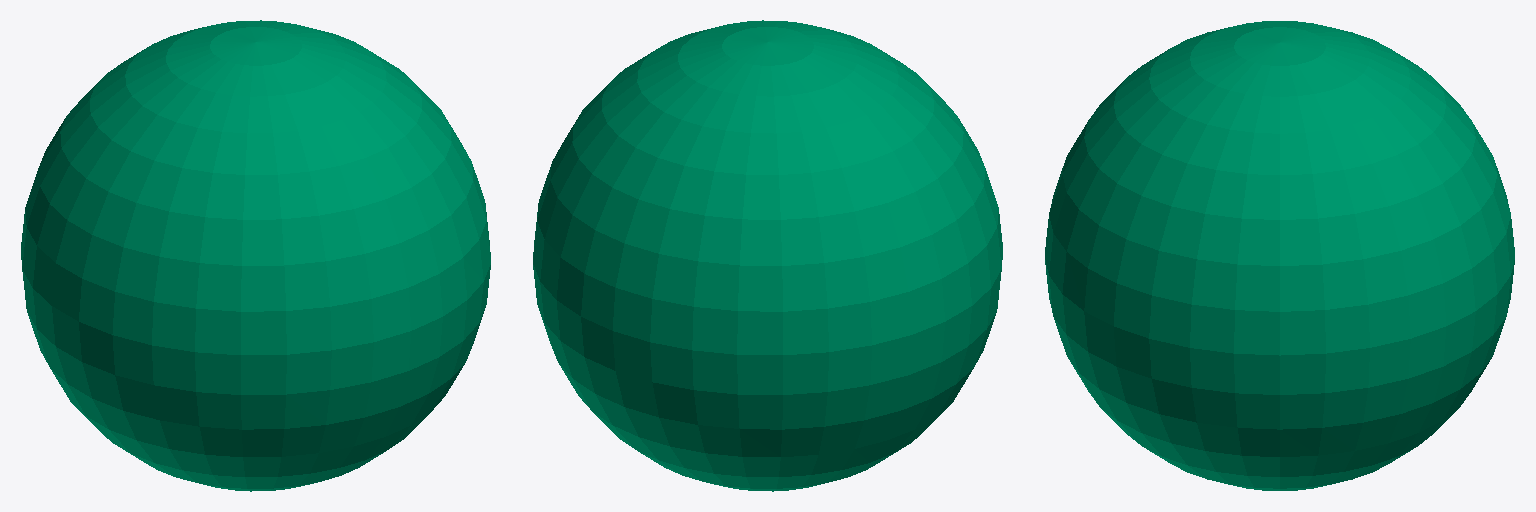
The robot description file, URDF, robot "fetch":
<robot name="fetch">
  <link name="base_link">
    <inertial>
      <origin rpy="0 0 0" xyz="-0.0036 0.0 0.0014" />
      <mass value="70.1294" />
      <inertia ixx="1.225" ixy="0.0099" ixz="0.0062" iyy="1.2853" iyz="-0.0034" izz="0.987" />
    </inertial>
    <visual>
      <origin rpy="0 0 0" xyz="0 0 0" />
      <geometry>
        <mesh filename="package://meshes/base_link.dae" />
      </geometry>
      <material name="">
        <color rgba="0.356 0.361 0.376 1" />
      </material>
    </visual>
    <collision>
      <origin rpy="0 0 0" xyz="0 0 0" />
      <geometry>
        <mesh filename="package://meshes/base_link_collision_2.stl" />
      </geometry>
    </collision>
  </link>
  <link name="torso_lift_link">
    <inertial>
      <origin rpy="0 0 0" xyz="-0.0013 -0.0009 0.2935" />
      <mass value="10.7796" />
      <inertia ixx="0.3354" ixy="0.0" ixz="-0.0162" iyy="0.3354" iyz="-0.0006" izz="0.0954" />
    </inertial>
    <visual>
      <origin rpy="0 0 0" xyz="0 0 0" />
      <geometry>
        <mesh filename="package://meshes/torso_lift_link.dae" />
      </geometry>
      <material name="">
        <color rgba="1 1 1 1" />
      </material>
    </visual>
    <collision>
      <origin rpy="0 0 0" xyz="0 0 0" />
      <geometry>
        <mesh filename="package://meshes/torso_lift_link_split_1.stl" />
      </geometry>
    </collision>
  </link>
  <link name="torso_lift_link_collision_2">
    <visual>
			<geometry>
				<sphere radius="0.0001"></sphere>
			</geometry>
    </visual>
    <collision>
			<geometry>
				<sphere radius="0.082031"></sphere>
			</geometry>
			<origin xyz="0.10028701399493217 -8.808378064632416e-05 0.23797496720600128" rpy="0 0 0"></origin>
    </collision>
  </link>
  <joint name="torso_lift_collision_2_joint" type="fixed">
    <parent link="torso_lift_link" />
    <child link="torso_lift_link_collision_2" />
  </joint>
  <joint name="torso_lift_joint" type="prismatic">
    <origin rpy="-6.123E-17 0 0" xyz="-0.086875 0 0.37743" />
    <parent link="base_link" />
    <child link="torso_lift_link" />
    <axis xyz="0 0 1" />
    <limit effort="450.0" lower="0" upper="0.38615" velocity="0.1" />
  <dynamics damping="100.0" /></joint>
  <link name="head_pan_link">
    <inertial>
      <origin rpy="0 0 0" xyz="0.0321 0.0161 0.0390" />
      <mass value="2.2556" />
      <inertia ixx="0.0129" ixy="0.0002" ixz="0.0007" iyy="0.0095" iyz="-0.0" izz="0.0184" />
    </inertial>
    <visual>
      <origin rpy="0 0 0" xyz="0 0 0" />
      <geometry>
        <mesh filename="package://meshes/head_pan_link.dae" />
      </geometry>
      <material name="">
        <color rgba="0.356 0.361 0.376 1" />
      </material>
    </visual>
    <collision>
      <origin rpy="0 0 0" xyz="0.02 0 0.1" />
      <geometry>
        <sphere radius="0.2" />
      </geometry>
    </collision>
  </link>
  <joint name="head_pan_joint" type="fixed">
    <origin rpy="0 0 0" xyz="0.053125 0 0.603001417713939" />
    <parent link="torso_lift_link" />
    <child link="head_pan_link" />
    <axis xyz="0 0 1" />
  <limit effort="0.32" lower="-1.57" upper="1.57" velocity="1.57" /></joint>
  <link name="head_tilt_link">
    <inertial>
      <origin rpy="0 0 0" xyz="0.0081 0.0025 0.0113" />
      <mass value="0.9087" />
      <inertia ixx="0.0061" ixy="-0.0" ixz="0.0002" iyy="0.0014" iyz="-0.0001" izz="0.0061" />
    </inertial>
    <visual>
      <origin rpy="0 0 0" xyz="0 0 0" />
      <geometry>
        <mesh filename="package://meshes/head_tilt_link.dae" />
      </geometry>
      <material name="">
        <color rgba="0.086 0.506 0.767 1" />
      </material>
    </visual>
  </link>
  <joint name="head_tilt_joint" type="fixed">
    <origin rpy="0 0 0" xyz="0.14253 0 0.057999" />
    <parent link="head_pan_link" />
    <child link="head_tilt_link" />
    <axis xyz="0 1 0" />
    <limit effort="0.68" lower="-0.76" upper="1.45" velocity="1.57" />
  </joint>
  <link name="shoulder_pan_link">
    <inertial>
      <origin rpy="0 0 0" xyz="0.0927 -0.0056 0.0564" />
      <mass value="2.5587" />
      <inertia ixx="0.0043" ixy="-0.0001" ixz="0.001" iyy="0.0087" iyz="-0.0001" izz="0.0087" />
    </inertial>
    <visual>
      <origin rpy="0 0 0" xyz="0 0 0" />
      <geometry>
        <mesh filename="package://meshes/shoulder_pan_link.dae" />
      </geometry>
      <material name="">
        <color rgba="1 1 1 1" />
      </material>
    </visual>
    <collision>
      <origin rpy="0 0 0" xyz="0 0 0" />
      <geometry>
        <mesh filename="package://meshes/shoulder_pan_link_collision_2.stl" />
      </geometry>
    </collision>
  </link>
  <joint name="shoulder_pan_joint" type="revolute">
    <origin rpy="0 0 0" xyz="0.119525 0 0.34858" />
    <parent link="torso_lift_link" />
    <child link="shoulder_pan_link" />
    <axis xyz="0 0 1" />
    <dynamics damping="1.0" />
    <limit effort="33.82" lower="-1.6056" upper="1.6056" velocity="1.256" />
  </joint>
  <link name="shoulder_lift_link">
    <inertial>
      <origin rpy="0 0 0" xyz="0.1432 0.0072 -0.0001" />
      <mass value="2.6615" />
      <inertia ixx="0.0028" ixy="-0.0021" ixz="-0.0" iyy="0.0111" iyz="-0.0" izz="0.0112" />
    </inertial>
    <visual>
      <origin rpy="0 0 0" xyz="0 0 0" />
      <geometry>
        <mesh filename="package://meshes/shoulder_lift_link.dae" />
      </geometry>
      <material name="">
        <color rgba="0.086 0.506 0.767 1" />
      </material>
    </visual>
    <collision>
      <origin rpy="0 0 0" xyz="0 0 0" />
      <geometry>
        <mesh filename="package://meshes/shoulder_lift_link_collision_2.stl" />
      </geometry>
    </collision>
  </link>
  <joint name="shoulder_lift_joint" type="revolute">
    <origin rpy="0 0 0" xyz="0.117 0 0.0599999999999999" />
    <parent link="shoulder_pan_link" />
    <child link="shoulder_lift_link" />
    <axis xyz="0 1 0" />
    <dynamics damping="1.0" />
    <limit effort="131.76" lower="-1.221" upper="1.518" velocity="1.454" />
  </joint>
  <link name="upperarm_roll_link">
    <inertial>
      <origin rpy="0 0 0" xyz="0.1165 0.0014 0.0000" />
      <mass value="2.3311" />
      <inertia ixx="0.0019" ixy="-0.0001" ixz="0.0" iyy="0.0045" iyz="0.0" izz="0.0047" />
    </inertial>
    <visual>
      <origin rpy="0 0 0" xyz="0 0 0" />
      <geometry>
        <mesh filename="package://meshes/upperarm_roll_link.dae" />
      </geometry>
      <material name="">
        <color rgba="1 1 1 1" />
      </material>
    </visual>
    <collision>
      <origin rpy="0 0 0" xyz="0 0 0" />
      <geometry>
        <mesh filename="package://meshes/upperarm_roll_link_collision_2.stl" />
      </geometry>
    </collision>
  </link>
  <joint name="upperarm_roll_joint" type="revolute">
    <origin rpy="0 0 0" xyz="0.219 0 0" />
    <parent link="shoulder_lift_link" />
    <child link="upperarm_roll_link" />
    <axis xyz="1 0 0" />
    <dynamics damping="5.0" />
    <limit effort="76.94" velocity="1.571" lower="-3.14159" upper="3.14159"  />
  </joint>
  <link name="elbow_flex_link">
    <inertial>
      <origin rpy="0 0 0" xyz="0.1279 0.0073 0.0000" />
      <mass value="2.1299" />
      <inertia ixx="0.0024" ixy="-0.0016" ixz="0.0" iyy="0.0082" iyz="-0.0" izz="0.0084" />
    </inertial>
    <visual>
      <origin rpy="0 0 0" xyz="0 0 0" />
      <geometry>
        <mesh filename="package://meshes/elbow_flex_link.dae" />
      </geometry>
      <material name="">
        <color rgba="0.086 0.506 0.767 1" />
      </material>
    </visual>
    <collision>
      <origin rpy="0 0 0" xyz="0 0 0" />
      <geometry>
        <mesh filename="package://meshes/elbow_flex_link_collision_2.stl" />
      </geometry>
    </collision>
  </link>
  <joint name="elbow_flex_joint" type="revolute">
    <origin rpy="0 0 0" xyz="0.133 0 0" />
    <parent link="upperarm_roll_link" />
    <child link="elbow_flex_link" />
    <axis xyz="0 1 0" />
    <dynamics damping="1.0" />
    <limit effort="66.18" lower="-2.251" upper="2.251" velocity="1.521" />
  </joint>
  <link name="forearm_roll_link">
    <inertial>
      <origin rpy="0 0 0" xyz="0.1097 -0.0266 0.0000" />
      <mass value="1.6563" />
      <inertia ixx="0.0016" ixy="-0.0003" ixz="0.0" iyy="0.003" iyz="-0.0" izz="0.0035" />
    </inertial>
    <visual>
      <origin rpy="0 0 0" xyz="0 0 0" />
      <geometry>
        <mesh filename="package://meshes/forearm_roll_link.dae" />
      </geometry>
      <material name="">
        <color rgba="1 1 1 1" />
      </material>
    </visual>
    <collision>
      <origin rpy="0 0 0" xyz="0 0 0" />
      <geometry>
        <mesh filename="package://meshes/forearm_roll_link_collision_2.stl" />
      </geometry>
    </collision>
  </link>
  <joint name="forearm_roll_joint" type="revolute">
    <origin rpy="0 0 0" xyz="0.197 0 0" />
    <parent link="elbow_flex_link" />
    <child link="forearm_roll_link" />
    <axis xyz="1 0 0" />
    <dynamics damping="5.0" />
    <limit effort="29.35" velocity="1.571" lower="-3.14159" upper="3.14159" />
  </joint>
  <link name="wrist_flex_link">
    <inertial>
      <origin rpy="0 0 0" xyz="0.0882 0.0009 -0.0001" />
      <mass value="1.725" />
      <inertia ixx="0.0018" ixy="-0.0001" ixz="-0.0" iyy="0.0042" iyz="0.0" izz="0.0042" />
    </inertial>
    <visual>
      <origin rpy="0 0 0" xyz="0 0 0" />
      <geometry>
        <mesh filename="package://meshes/wrist_flex_link.dae" />
      </geometry>
      <material name="">
        <color rgba="0.086 0.506 0.767 1" />
      </material>
    </visual>
    <collision>
      <origin rpy="0 0 0" xyz="0 0 0" />
      <geometry>
        <mesh filename="package://meshes/wrist_flex_link_collision_2.stl" />
      </geometry>
    </collision>
  </link>
  <joint name="wrist_flex_joint" type="revolute">
    <origin rpy="0 0 0" xyz="0.1245 0 0" />
    <parent link="forearm_roll_link" />
    <child link="wrist_flex_link" />
    <axis xyz="0 1 0" />
    <dynamics damping="1.0" />
    <limit effort="25.7" lower="-2.16" upper="2.16" velocity="2.268" />
  </joint>
  <link name="wrist_roll_link">
    <inertial>
      <origin rpy="0 0 0" xyz="0.0095 0.0004 -0.0002" />
      <mass value="0.1354" />
      <inertia ixx="0.0001" ixy="0.0" ixz="0.0" iyy="0.0001" iyz="0.0" izz="0.0001" />
    </inertial>
    <visual>
      <origin rpy="0 0 0" xyz="0 0 0" />
      <geometry>
        <mesh filename="package://meshes/wrist_roll_link.dae" />
      </geometry>
      <material name="">
        <color rgba="1 1 1 1" />
      </material>
    </visual>
    <collision>
      <origin rpy="0 0 0" xyz="0 0 0" />
      <geometry>
        <mesh filename="package://meshes/wrist_roll_link_collision_2.stl" />
      </geometry>
    </collision>
  </link>
  <joint name="wrist_roll_joint" type="revolute">
    <origin rpy="0 0 0" xyz="0.1385 0 0" />
    <parent link="wrist_flex_link" />
    <child link="wrist_roll_link" />
    <axis xyz="1 0 0" />
    <limit effort="7.36" velocity="2.268" lower="-3.14159" upper="3.14159"/>
    <dynamics damping="5.0" />
  </joint>
  <link name="gripper_link">
    <inertial>
      <origin rpy="0 0 0" xyz="-0.0900 -0.0001 -0.0017" />
      <mass value="1.5175" />
      <inertia ixx="0.0013" ixy="-0.0" ixz="0.0" iyy="0.0019" iyz="-0.0" izz="0.0024" />
    </inertial>
    <visual>
      <origin rpy="0 0 0" xyz="0 0 0" />
      <geometry>
        <mesh filename="package://meshes/gripper_link.dae" />
      </geometry>
    </visual>
    <collision>
      <origin rpy="0 0 0" xyz="0 0 0" />
      <geometry>
        <mesh filename="package://meshes/gripper_link_2.stl" />
      </geometry>
    </collision>
  </link>
  <joint name="gripper_axis" type="fixed">
    <origin rpy="0 0 0" xyz="0.16645 0 0" />
    <parent link="wrist_roll_link" />
    <child link="gripper_link" />
    <axis xyz="0 1 0" />
  </joint>
  <link name="r_gripper_finger_link">
    <inertial>
      <origin rpy="0 0 0" xyz="-0.01 0 0" />
      <mass value="0.0798" />
      <inertia ixx="0.002" ixy="0" ixz="0" iyy="0" iyz="0" izz="0" />
    </inertial>
    <visual>
      <origin rpy="0 0 0" xyz="0 0.101425 0" />
      <geometry>
        <mesh filename="package://meshes/r_gripper_finger_link.STL" />
      </geometry>
      <material name="">
        <color rgba="0.356 0.361 0.376 1" />
      </material>
    </visual>
    <collision>
      <origin rpy="0 0 0" xyz="0 0.101425 0" />
      <geometry>
        <mesh filename="package://meshes/r_gripper_finger_link_2.stl" />
      </geometry>
    </collision>
  </link>
  <joint name="r_gripper_finger_joint" type="fixed">
    <origin rpy="0 0 0" xyz="0 0.065425 0" />
    <parent link="gripper_link" />
    <child link="r_gripper_finger_link" />
    <axis xyz="0 1 0" />
  </joint>
  <link name="l_gripper_finger_link">
    <inertial>
      <origin rpy="0 0 0" xyz="-0.01 0 0" />
      <mass value="0.0798" />
      <inertia ixx="0.002" ixy="0" ixz="0" iyy="0" iyz="0" izz="0" />
    </inertial>
    <visual>
      <origin rpy="0 0 0" xyz="0 -0.101425 0" />
      <geometry>
        <mesh filename="package://meshes/l_gripper_finger_link.STL" />
      </geometry>
      <material name="">
        <color rgba="0.356 0.361 0.376 1" />
      </material>
    </visual>
    <collision>
      <origin rpy="0 0 0" xyz="0 -0.101425 0" />
      <geometry>
        <mesh filename="package://meshes/l_gripper_finger_link_2.stl" />
      </geometry>
    </collision>
  </link>
  <joint name="l_gripper_finger_joint" type="fixed">
    <origin rpy="0 0 0" xyz="0 -0.065425 0" />
    <parent link="gripper_link" />
    <child link="l_gripper_finger_link" />
    <axis xyz="0 -1 0" />
  </joint>
  <link name="bellows_link">
    <inertial>
      <origin rpy="0 0 0" xyz="0.0191320000286228 -1.67219873481315E-16 -0.134861625443387" />
      <mass value="0.169374038216602" />
      <inertia ixx="0.00331159128762117" ixy="-8.9230964321455E-18" ixz="-5.38622201018293E-08" iyy="0.00174447292786627" iyz="-8.06964979976371E-17" izz="0.00169417568121457" />
    </inertial>
    <visual>
      <origin rpy="0 0 0" xyz="0 0 0" />
      <geometry>
        <mesh filename="package://meshes/bellows_link.STL" />
      </geometry>
      <material name="">
        <color rgba="0 0 0 1" />
      </material>
    </visual>
    <!-- <collision> -->
    <!--   <origin rpy="0 0 0" xyz="0 0 0" /> -->
    <!--   <geometry> -->
    <!--     <mesh filename="package://meshes/bellows_link_collision.STL" /> -->
    <!--   </geometry> -->
    <!-- </collision> -->
  </link>
  <joint name="bellows_joint" type="fixed">
    <origin rpy="0 0 0" xyz="0 0 0" />
    <parent link="torso_lift_link" />
    <child link="bellows_link" />
    <axis xyz="0 0 -1" /></joint>
  <link name="torso_fixed_link">
    <inertial>
      <origin rpy="0 0 0" xyz="-0.0722 0.0057 0.2656" />
      <mass value="13.2775" />
      <inertia ixx="0.3861" ixy="0.0015" ixz="-0.0102" iyy="0.3388" iyz="0.0117" izz="0.1018" />
    </inertial>
    <visual>
      <origin rpy="0 0 0" xyz="0 0 0" />
      <geometry>
        <mesh filename="package://meshes/torso_fixed_link.dae" />
      </geometry>
      <material name="">
        <color rgba="0.086 0.506 0.767 1" />
      </material>
    </visual>
    <collision>
      <origin rpy="0 0 0" xyz="0 0 0" />
      <geometry>
        <mesh filename="package://meshes/torso_fixed_link.STL" />
      </geometry>
    </collision>
  </link>
  <joint name="torso_fixed_joint" type="fixed">
    <origin rpy="-6.12303176911189E-17 0 0" xyz="-0.086875 0 0.377425" />
    <parent link="base_link" />
    <child link="torso_fixed_link" />
    <axis xyz="0 1 0" />
  </joint>
</robot>

--- Facts derived from the render (not from the file) ---
3 views of the same robot in one strip: view 1: azimuth 30°, elevation 25°; view 2: azimuth 150°, elevation 25°; view 3: azimuth 270°, elevation 25° (orthographic).
Model fetch with 17 links and 16 joints (7 revolute, 1 prismatic, 8 fixed), rooted at base_link, posed all joints at 0.
Visible links, largest first — view 1: torso_lift_link_collision_2; view 2: torso_lift_link_collision_2; view 3: torso_lift_link_collision_2.
Link boxes in pixels (x1,y1,x2,y2): torso_lift_link_collision_2: (21,20,490,491); torso_lift_link_collision_2: (533,20,1002,491); torso_lift_link_collision_2: (1045,21,1514,490).
Bounding box of the posed robot: 0.0002 × 0.0002 × 0.0002 m (x, y, z).
0 mesh visuals loaded from 16 distinct referenced files (none loaded); not drawn: 16 (reference not matched to a file when rendering).